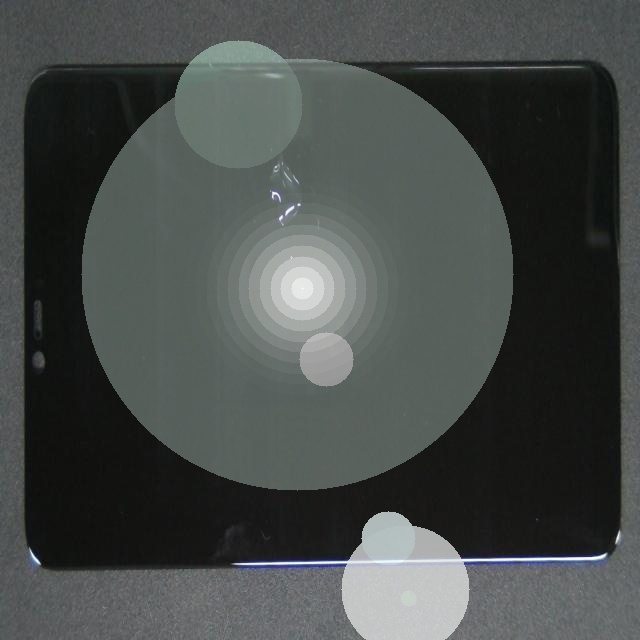oil: (151, 73, 403, 251)
